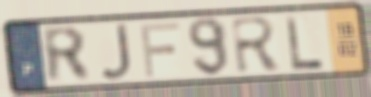9: (186, 16, 230, 79)
F: (137, 20, 182, 80)
J: (97, 21, 134, 83)
L: (283, 12, 327, 73)
R: (39, 25, 95, 86), (229, 15, 285, 76)
